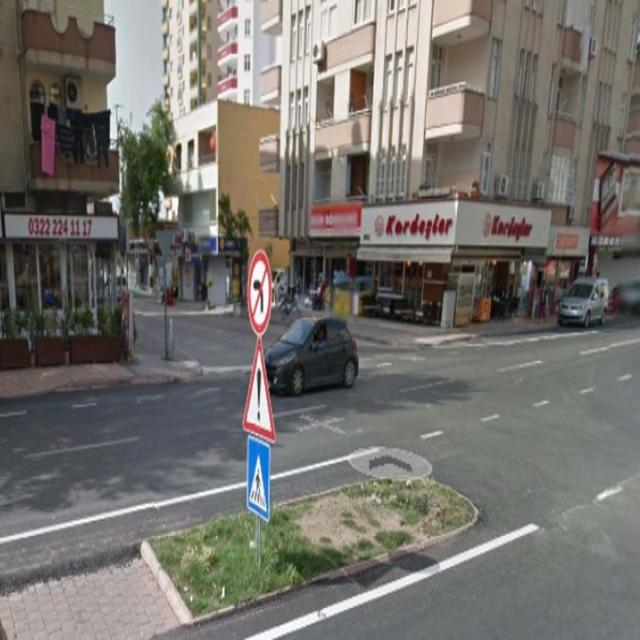soladonulmez: (247, 249, 273, 332)
